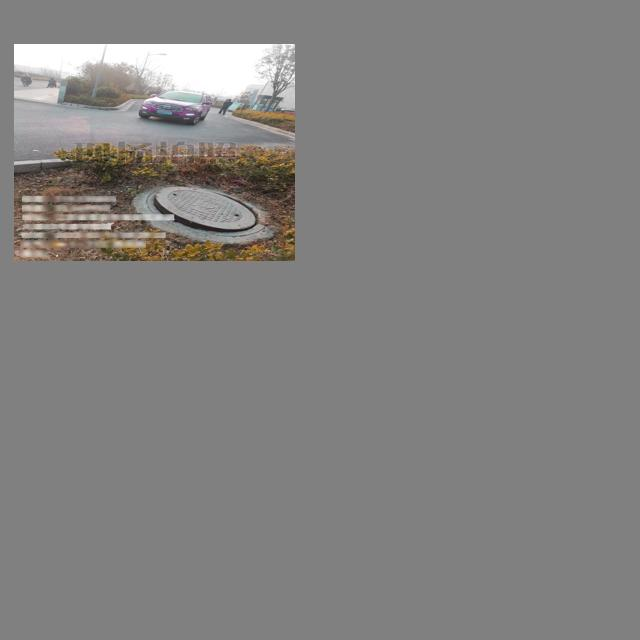uncovered: (144, 185, 266, 237)
